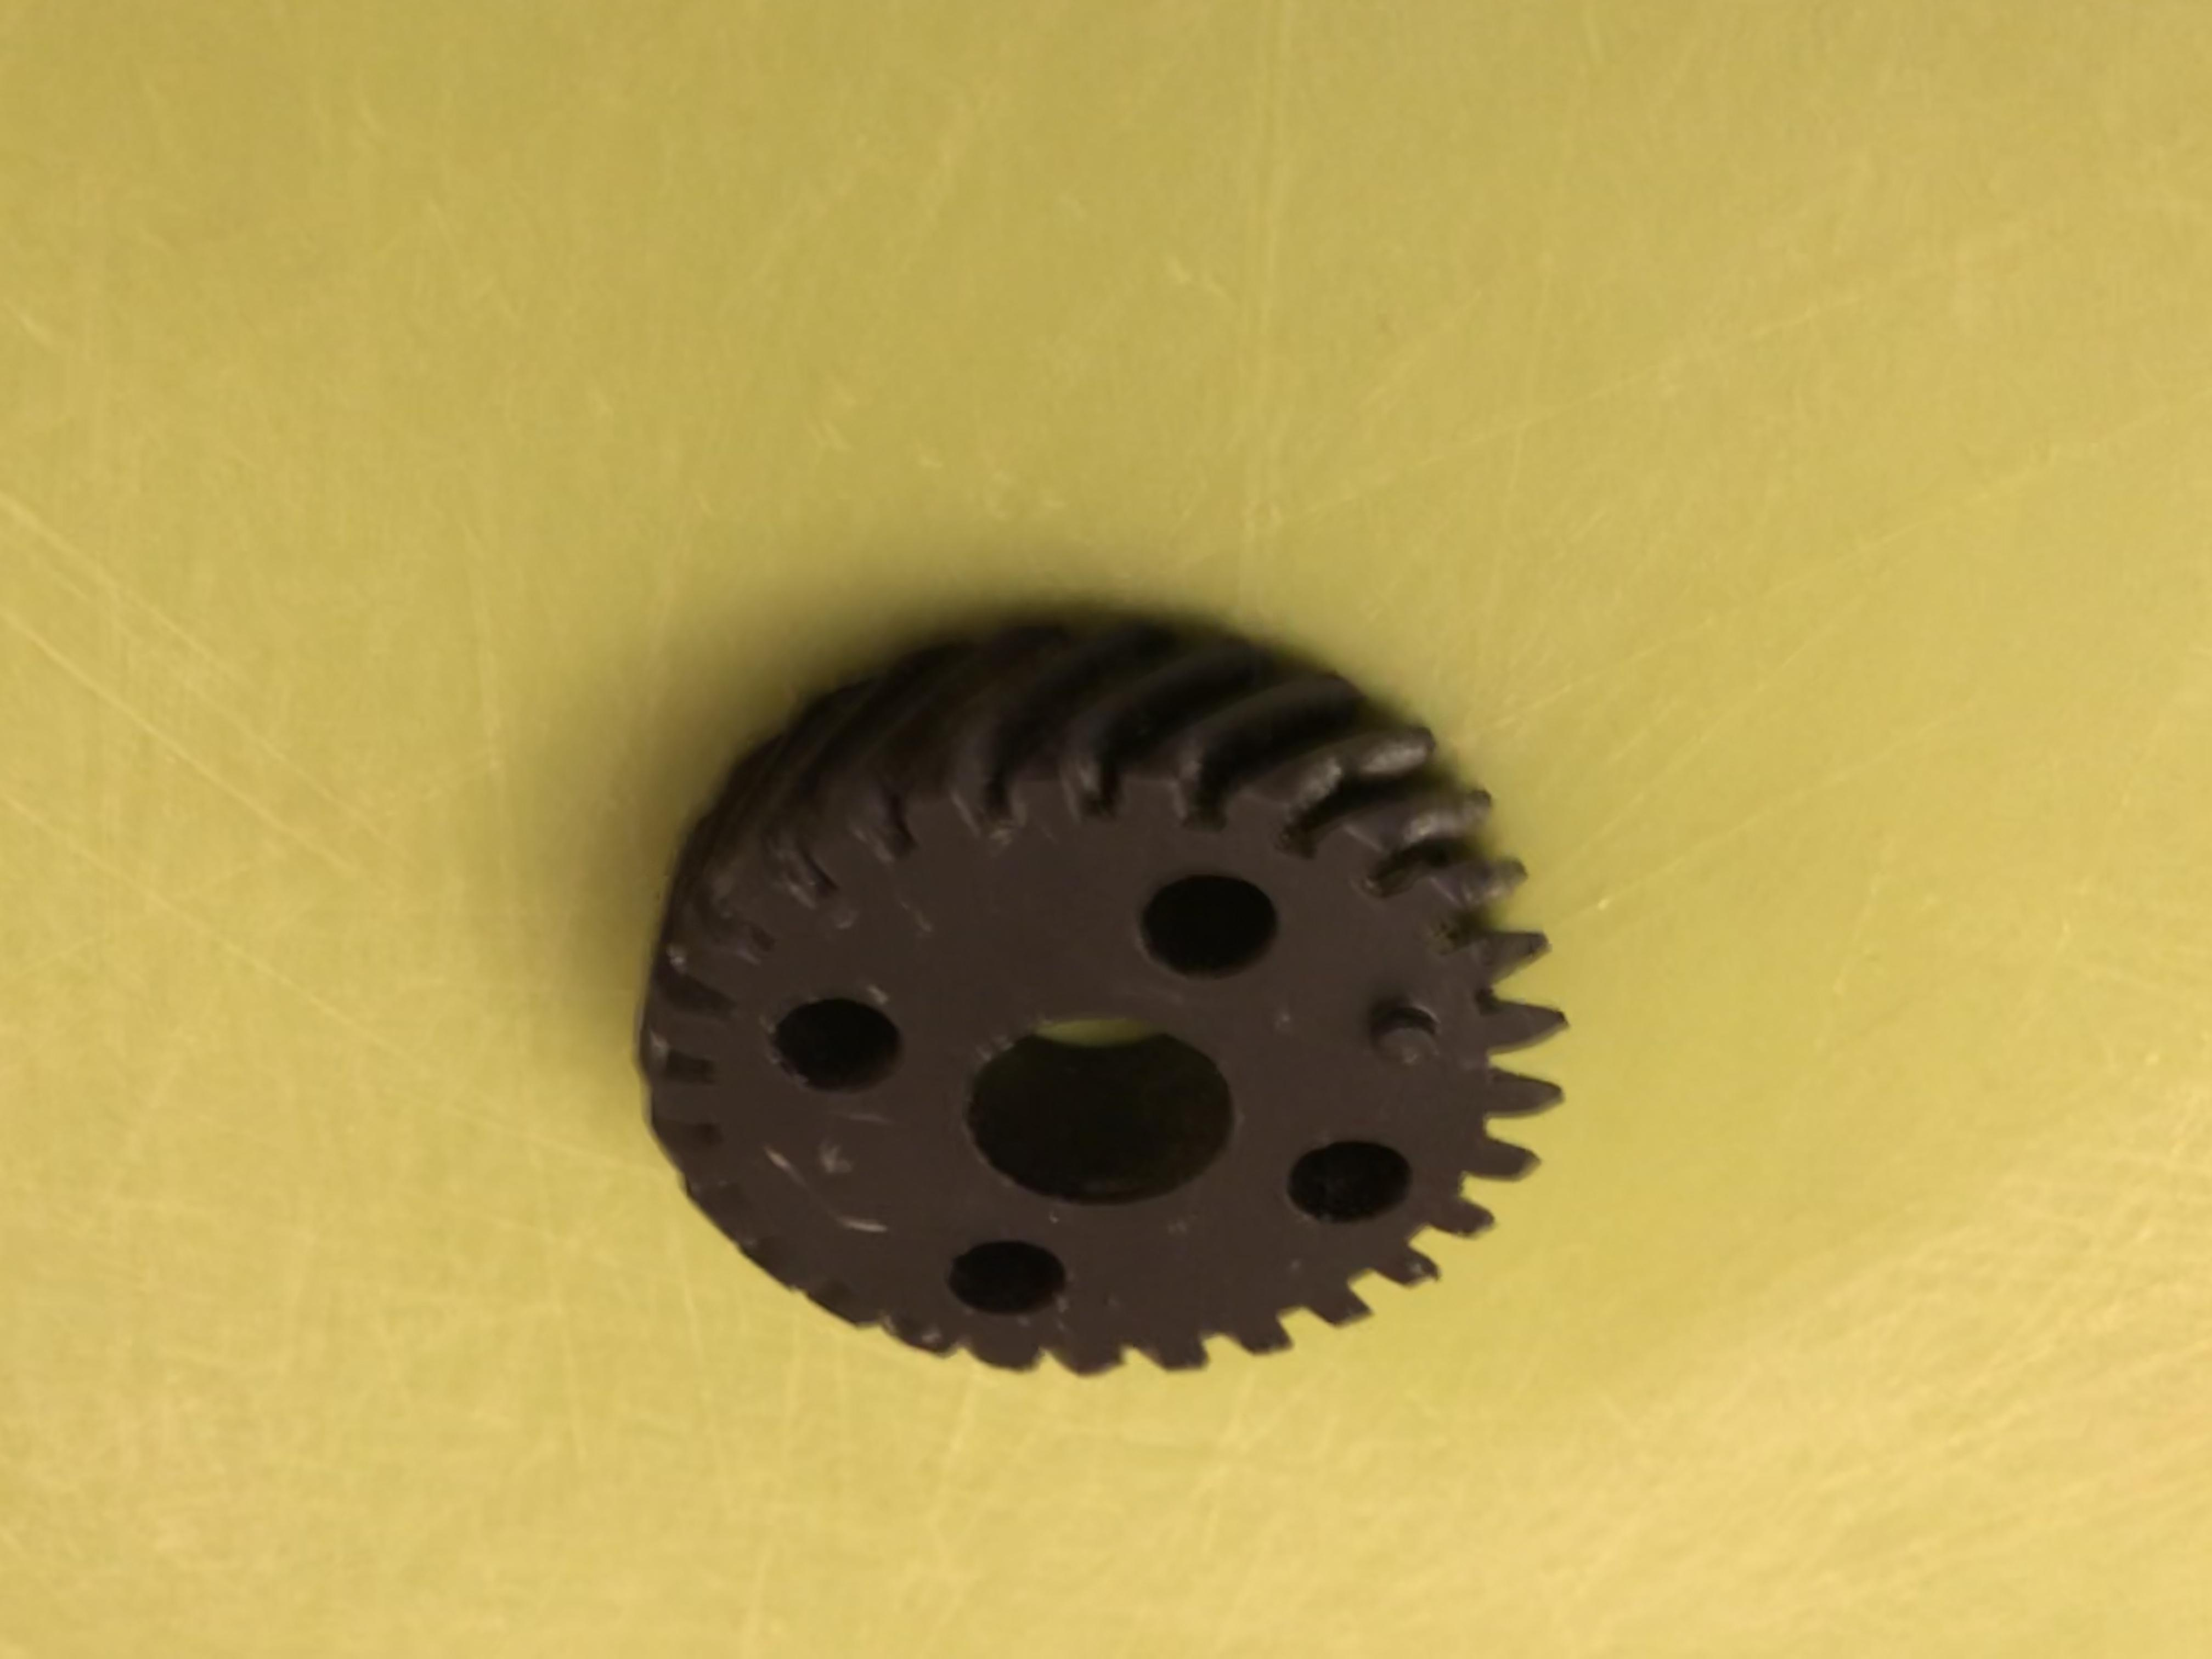Wheel: (636, 603, 1580, 1412)
